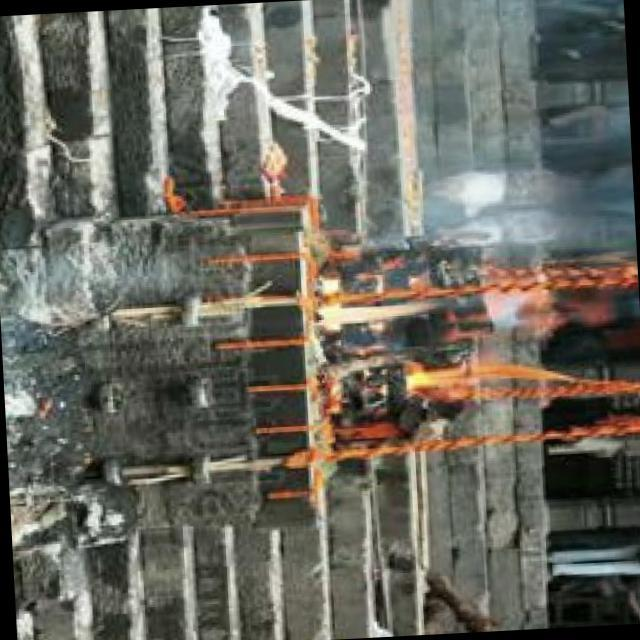Fire: (306, 273, 562, 414)
